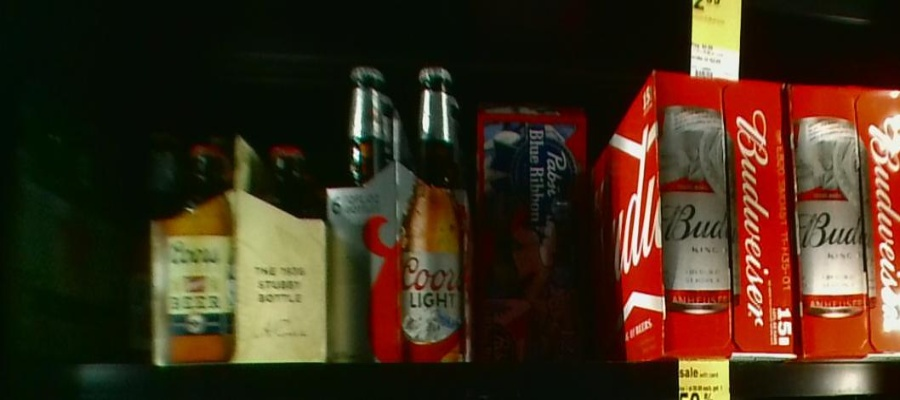bottle: (590, 76, 792, 365), (328, 61, 472, 363), (151, 133, 326, 365), (475, 109, 590, 364), (795, 90, 897, 355)
